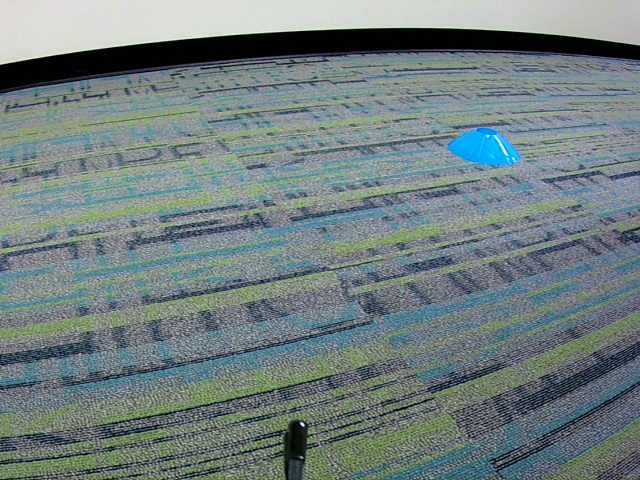cone: (448, 127, 524, 166)
